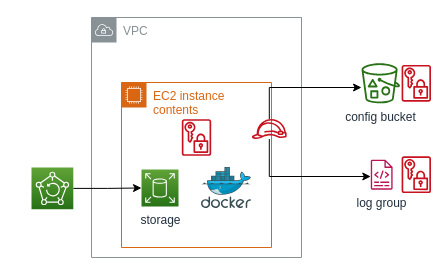
Image size: 448x275. Some labels were removed from this diagram. Each missing label, with the box of its shape:
AWS Backup: (30, 166, 73, 209)
cardano-node: (201, 167, 251, 208)
IAM role: (251, 118, 286, 138)
